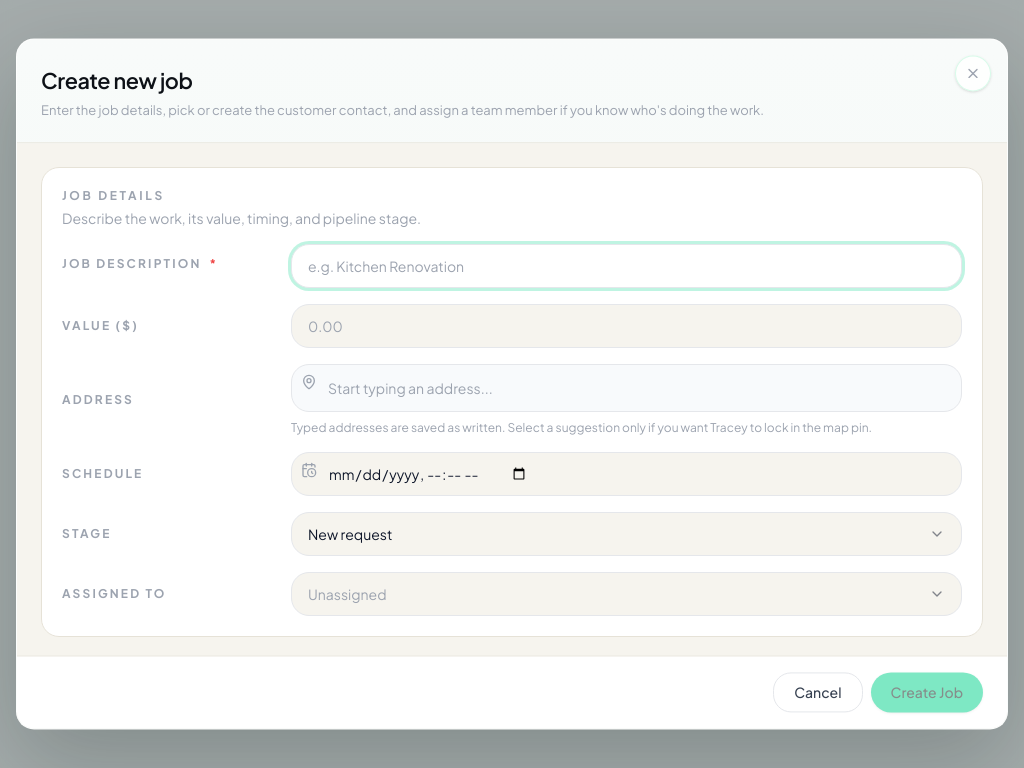
NewDealModal › shows a clear inline error for an invalid email
Type "Quoted visit" into the field labelled "Job description *".
click(626, 266); type("Quoted visit")  # box [291,244,962,288]
(page scrolled)
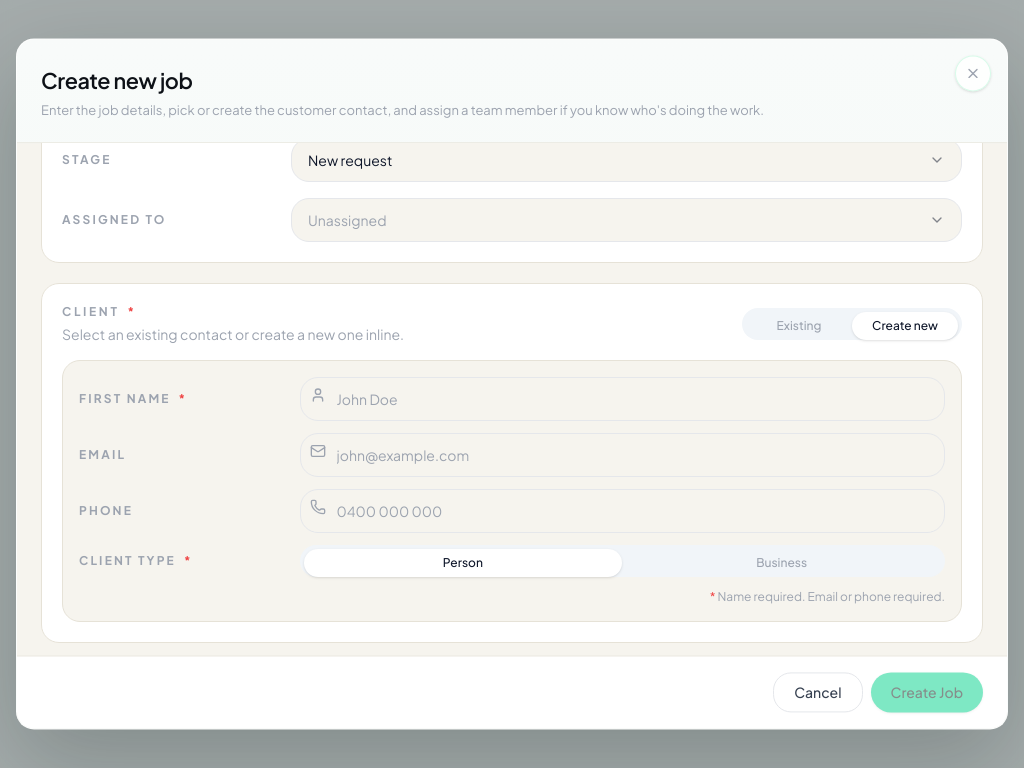
Type "Sarah Jones" into the field labelled "First name *".
click(622, 399); type("Sarah Jones")  # box [300,377,945,421]
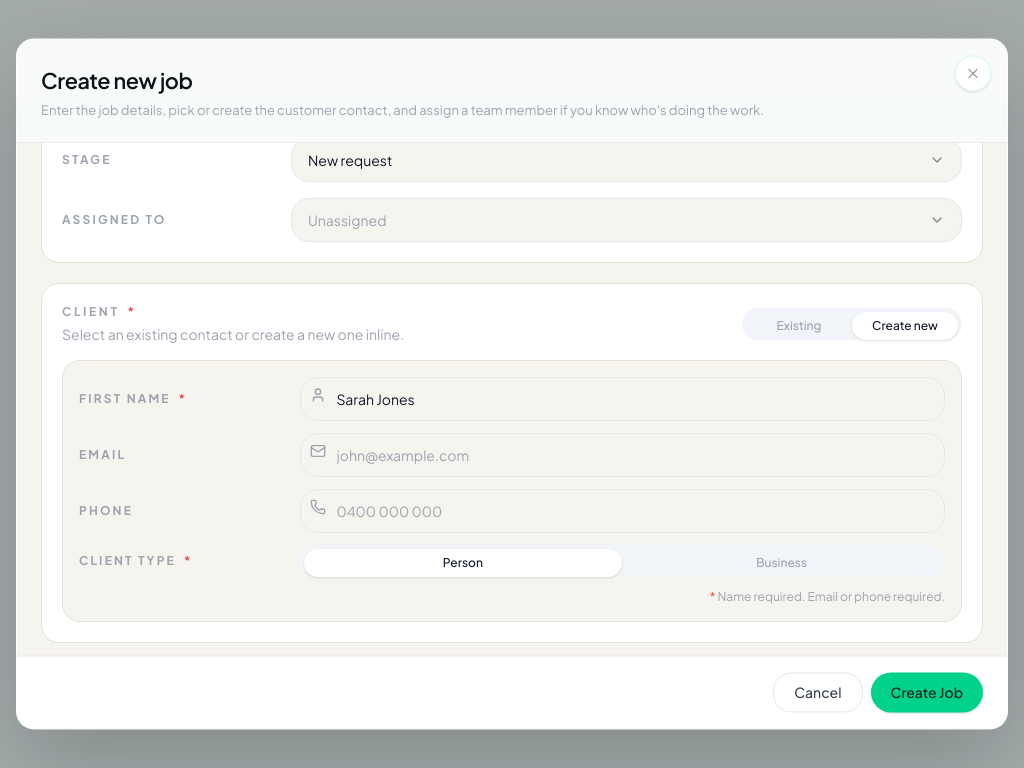
Type "not-an-email" into the field labelled "Email".
click(622, 455); type("not-an-email")  # box [300,433,945,477]
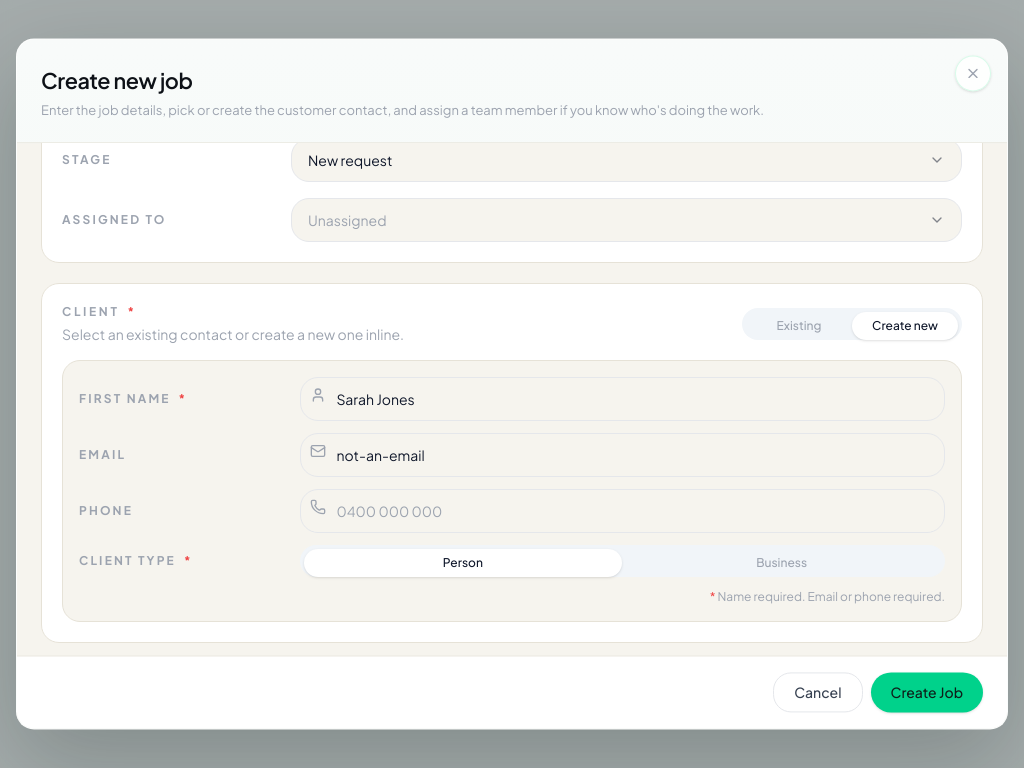
Submit the form
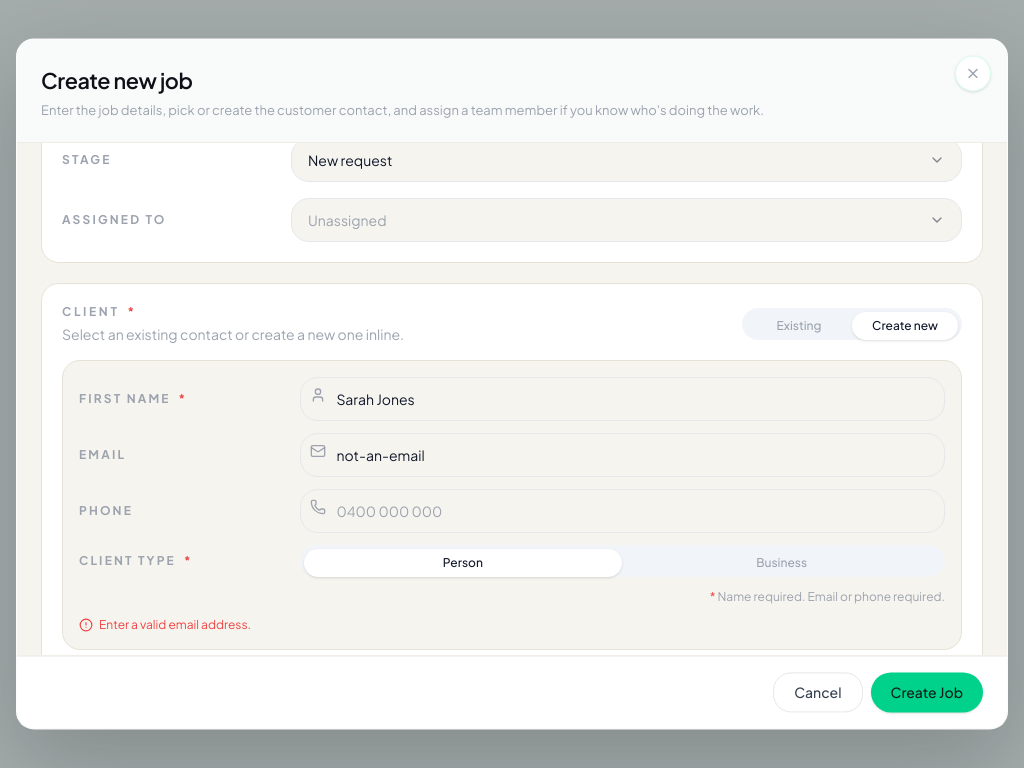
Expected: the text "Enter a valid email address." is shown, [79,617,251,632]
